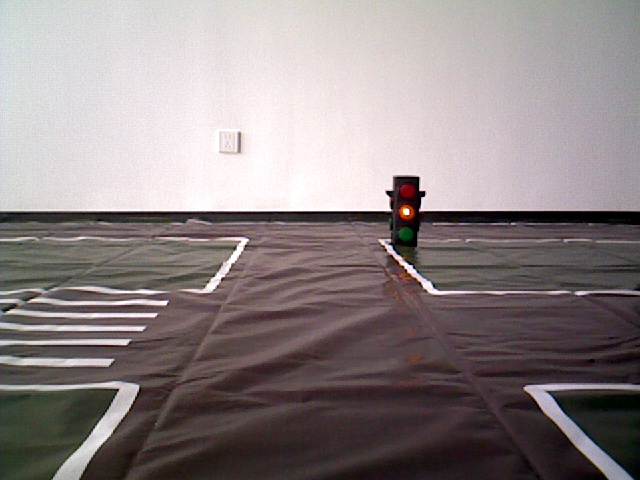yellow: (386, 173, 428, 255)
